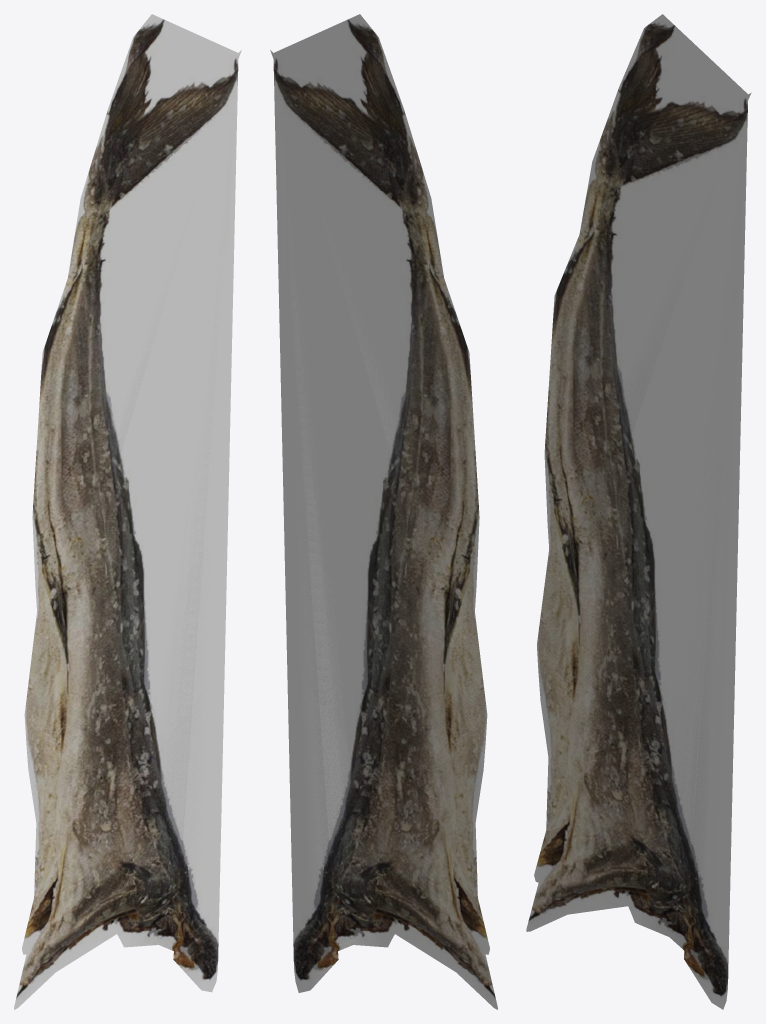
The model's file is stockfish.fbx.
The picture shows the model from 3 angles, left to right: view 1: azimuth 30°, elevation 25°; view 2: azimuth 150°, elevation 25°; view 3: azimuth 330°, elevation 25°; orthographic projection.
Parts seen in each view (by area): view 1: Extrude_1, Extrude_2; view 2: Extrude_1, Extrude_2; view 3: Extrude_1, Extrude_2.
Part boxes in pixels (<box>): Extrude_1: <box>14,14,241,1009</box>; Extrude_2: <box>14,15,237,1008</box>; Extrude_1: <box>270,14,497,1009</box>; Extrude_2: <box>277,15,497,1009</box>; Extrude_1: <box>526,14,751,1009</box>; Extrude_2: <box>527,15,746,1008</box>.
Size of the model in its own units: 10.17 by 42.34 by 0.0446.
